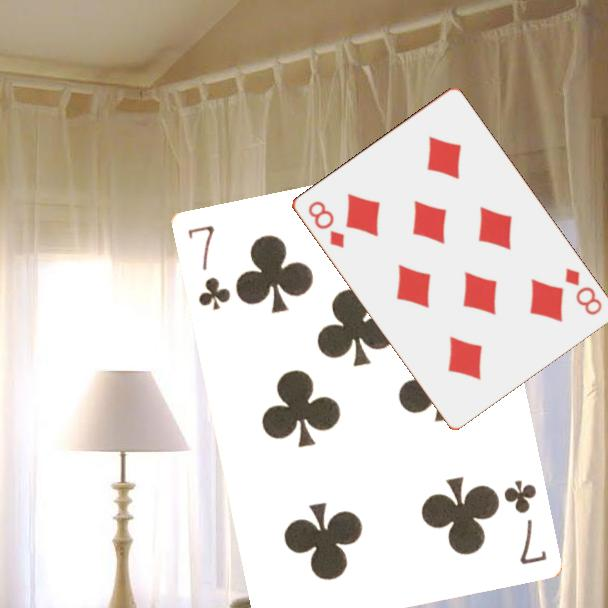c07: (183, 221, 233, 313), (499, 476, 549, 567)
d08: (561, 264, 605, 318), (304, 197, 347, 251)
